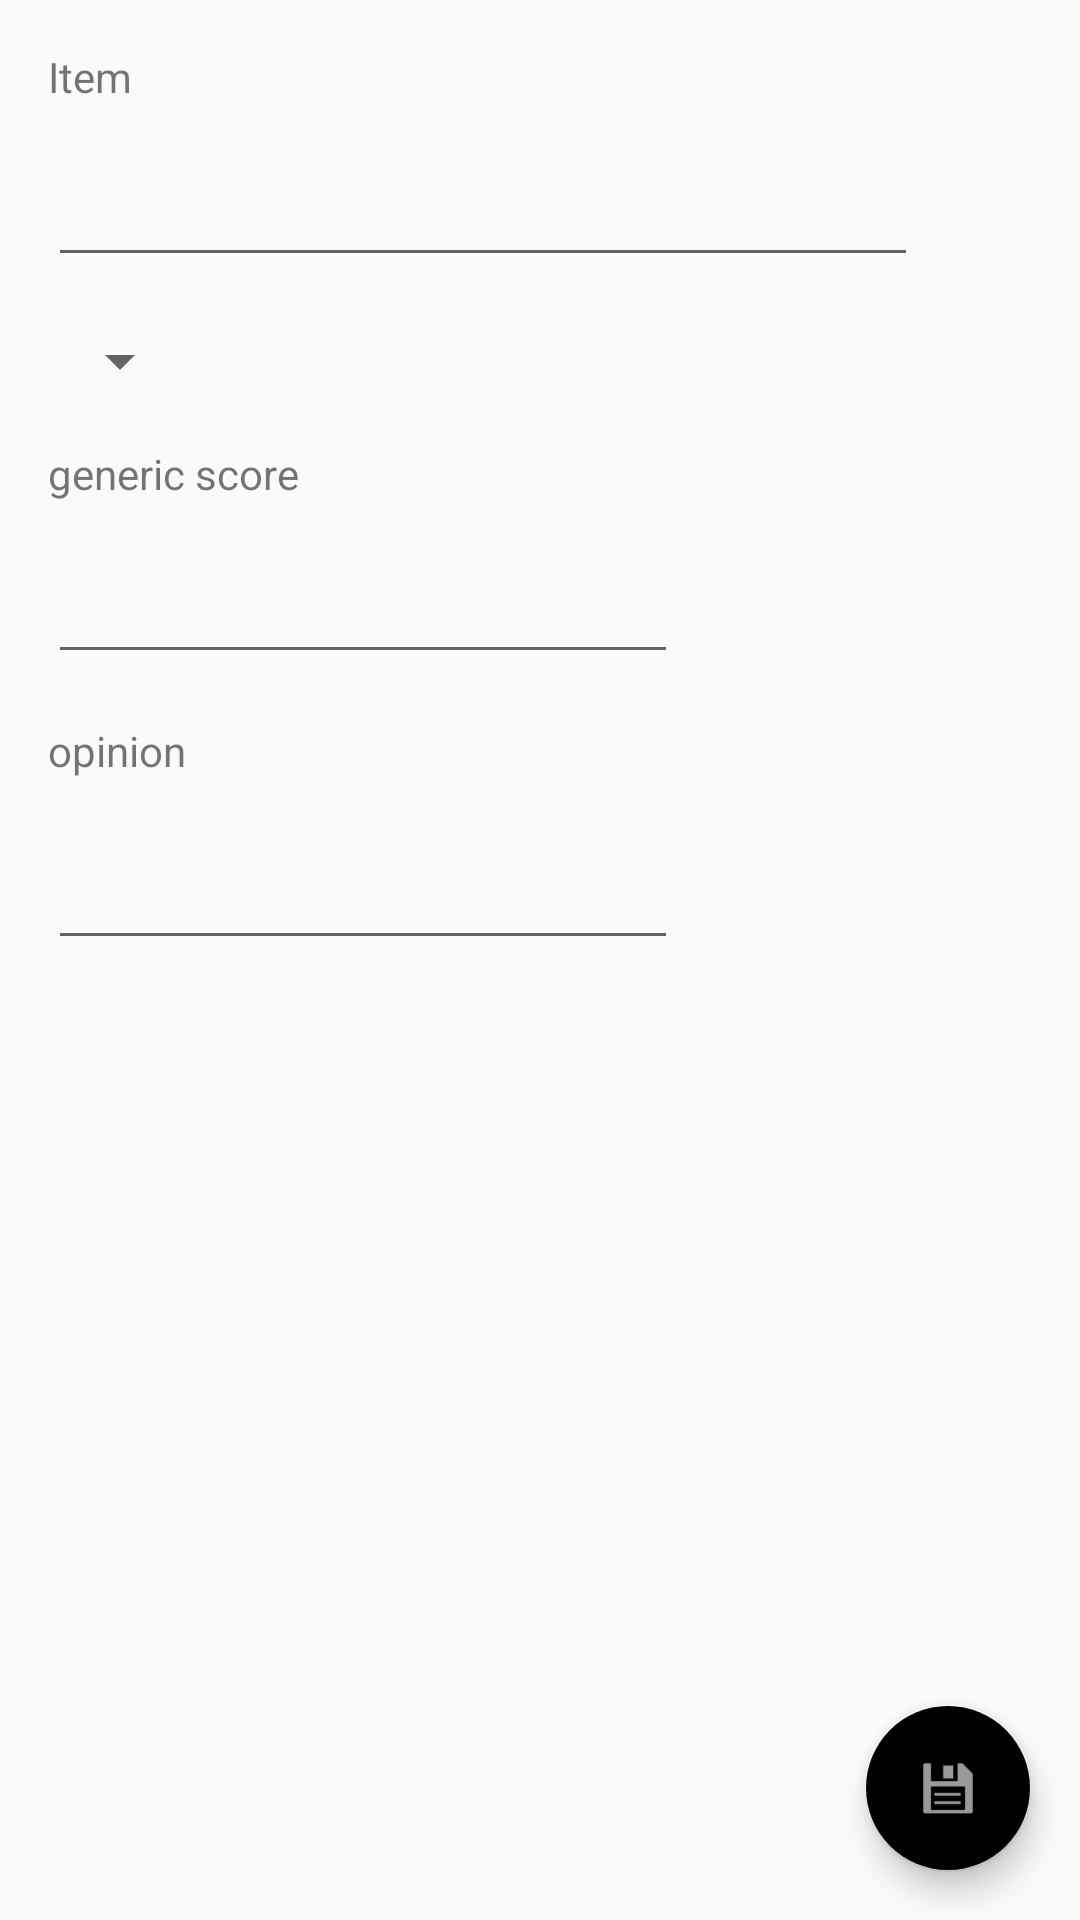

Icons on this 1080×1920 Android screen, each with its box as (x1, y1, x2, y2):
save: (866, 1706, 1032, 1872)
